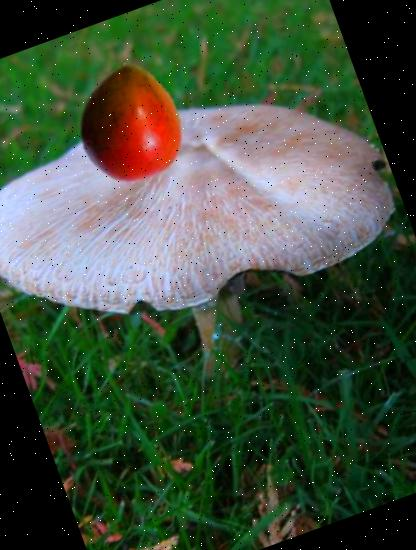Mango: (53, 45, 209, 200)
